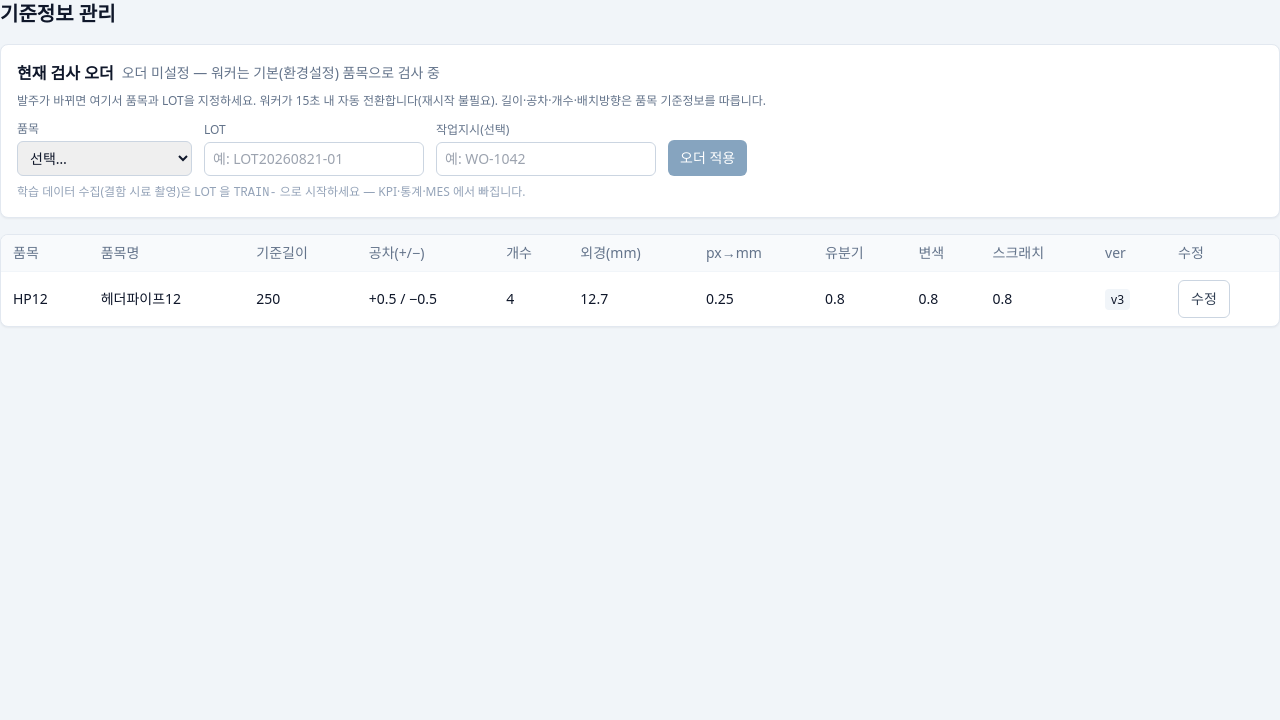
Test: MasterPage — 개수/외경 필드 › 편집 폼에 개수·외경이 채워지고 update 전송에 포함
Later steps or results of the test are not shown.
Click the button with test id "edit-HP12" at (1204, 299), box [1178,280,1230,318]
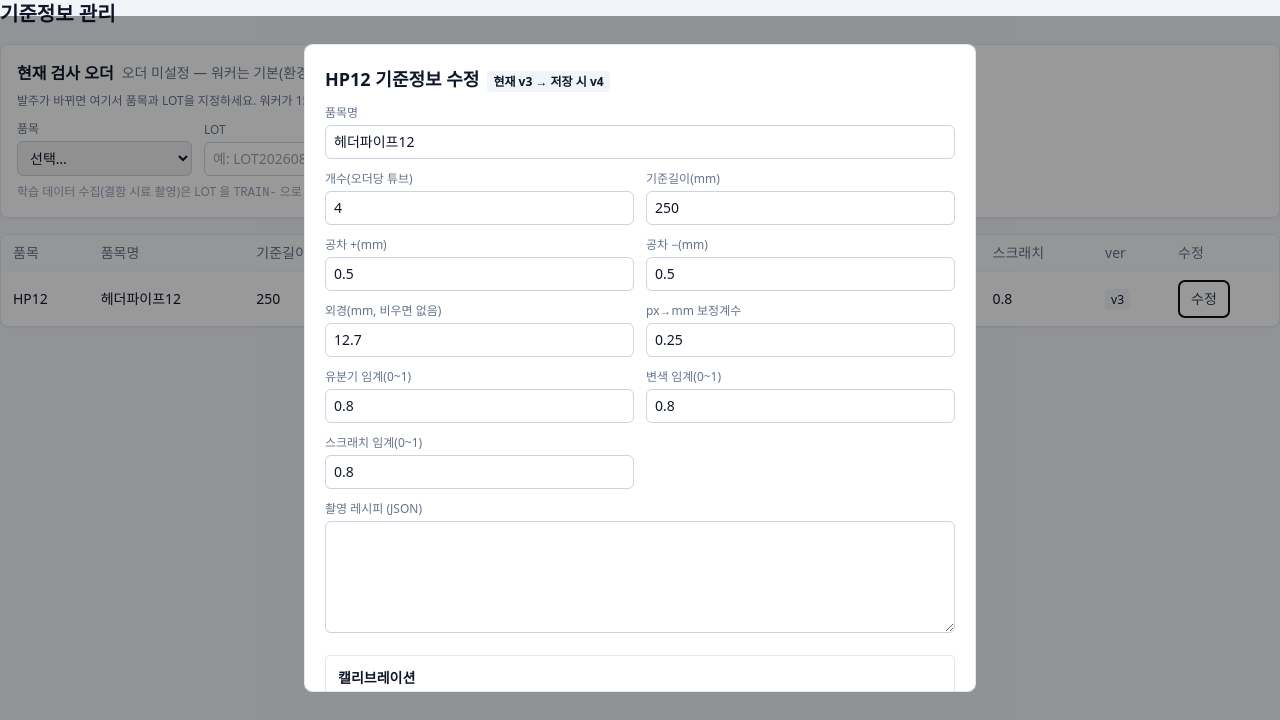
Expected: the number field with test id "edit-expected_count" holds "4", [325,191,634,225]
Expected: the number field with test id "edit-outer_diameter_mm" holds "12.7", [325,323,634,357]
